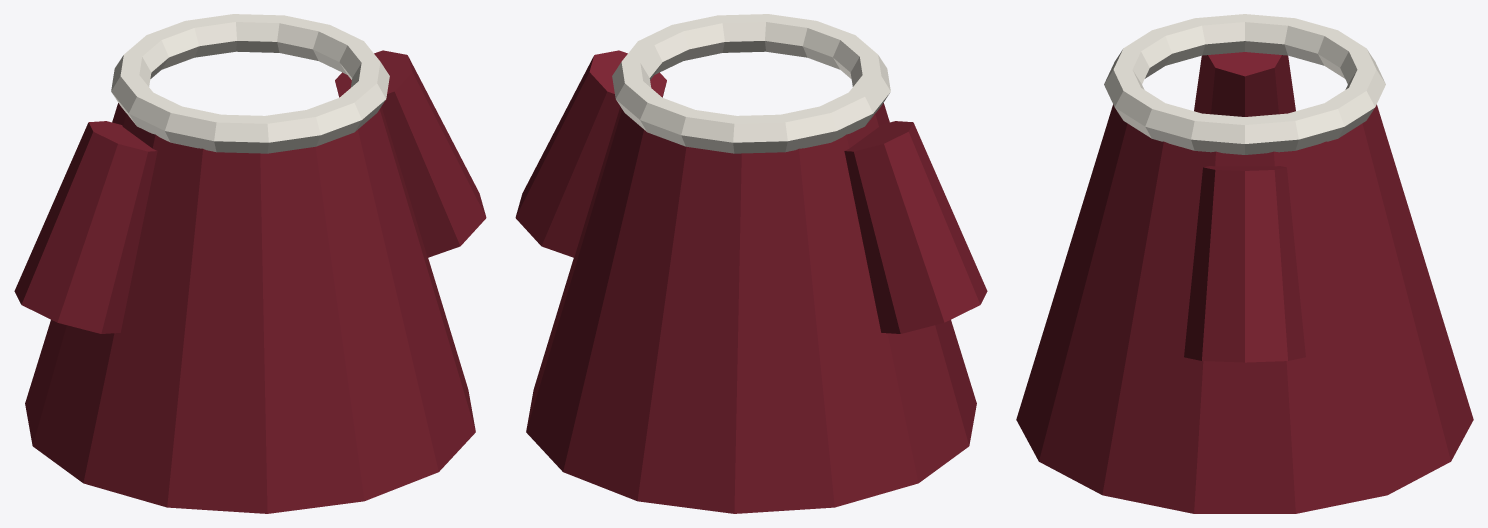
File: disguise_robe.glb
3 renders of one model, left to right at view 1: azimuth 30°, elevation 25°; view 2: azimuth 150°, elevation 25°; view 3: azimuth 270°, elevation 25°, orthographic.
Visible parts, largest first — view 1: robe_robe_cloth, sleeves_robe_cloth, collar_robe_collar; view 2: robe_robe_cloth, sleeves_robe_cloth, collar_robe_collar; view 3: robe_robe_cloth, sleeves_robe_cloth, collar_robe_collar.
Part boxes in pixels (x1,y1,x2,y2): robe_robe_cloth: (25,103,475,513); sleeves_robe_cloth: (14,50,486,333); collar_robe_collar: (111,14,389,153); robe_robe_cloth: (526,103,976,513); sleeves_robe_cloth: (515,50,987,333); collar_robe_collar: (612,14,890,153); robe_robe_cloth: (1016,104,1473,513); sleeves_robe_cloth: (1184,52,1305,362); collar_robe_collar: (1104,14,1385,154).
Size of the model in its own units: 1.39 by 1.01 by 1.2.
